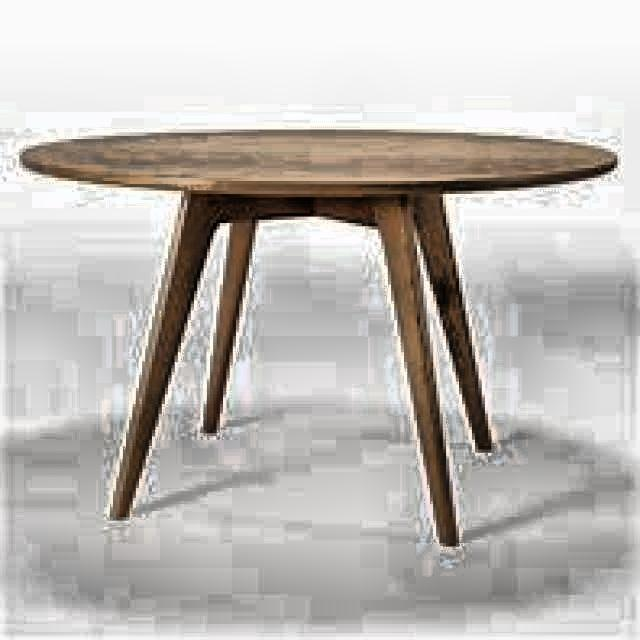mesa: (7, 126, 626, 544)
